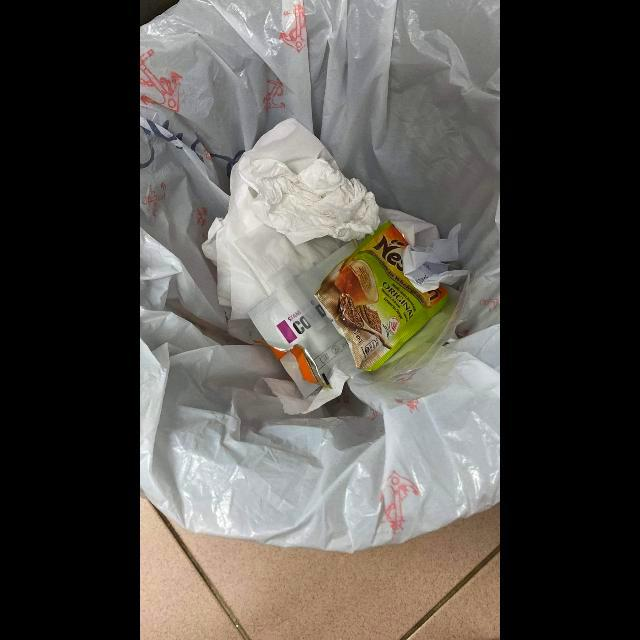food_wrapper: (315, 221, 448, 372)
paper: (201, 118, 380, 327), (238, 157, 381, 246), (379, 207, 470, 293)
